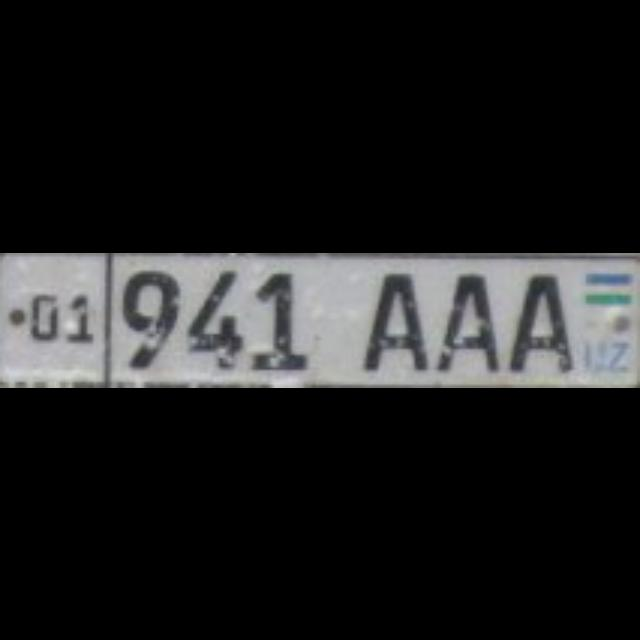0: (27, 292, 54, 336)
1: (246, 268, 300, 366), (64, 291, 90, 339)
4: (180, 268, 243, 366)
9: (118, 268, 174, 366)
A: (361, 270, 424, 366), (436, 270, 496, 370), (508, 270, 568, 370)
